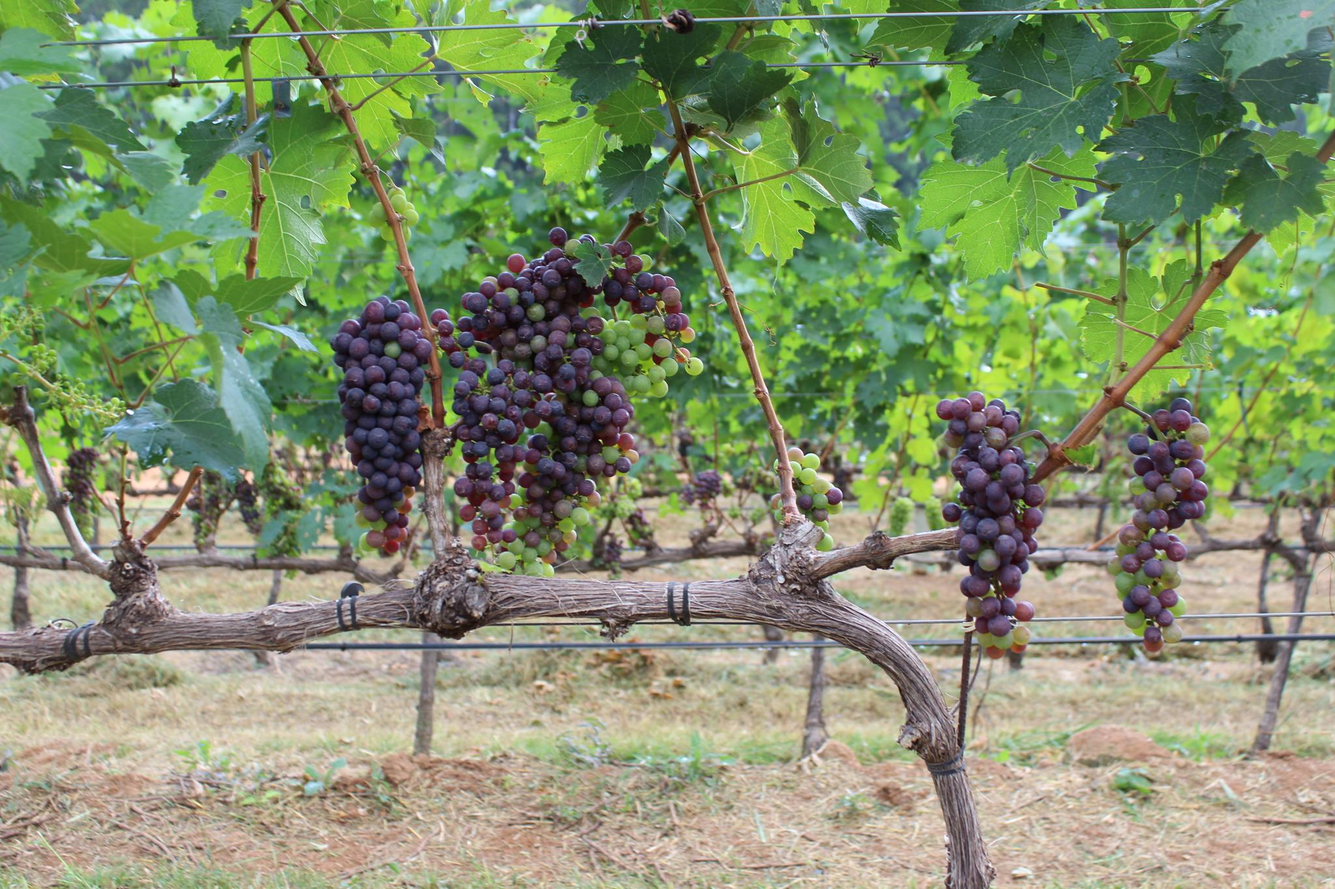Grape Ripe: (330, 296, 427, 557), (435, 309, 521, 555)
Grape Unripe: (771, 447, 842, 551), (590, 313, 682, 393)
